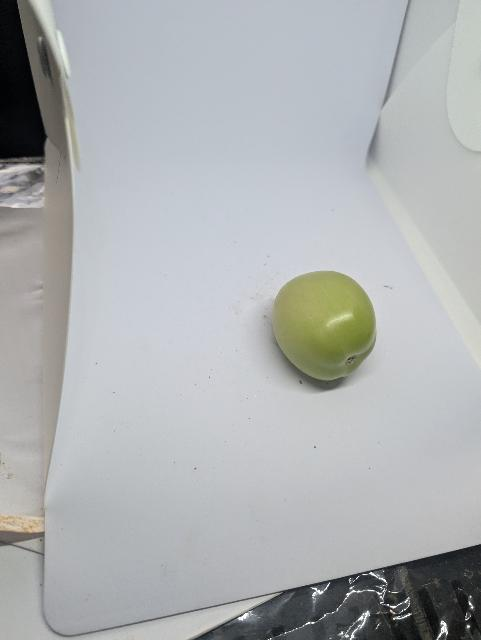green: (270, 269, 382, 383)
